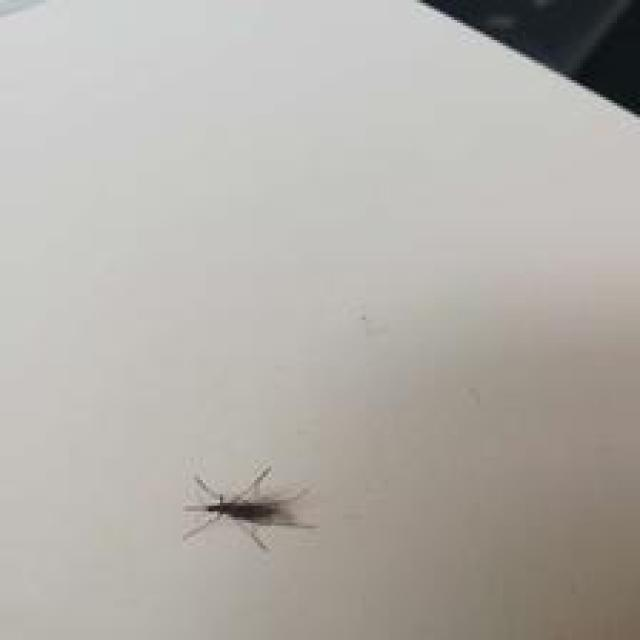Culex: (180, 463, 317, 551)
